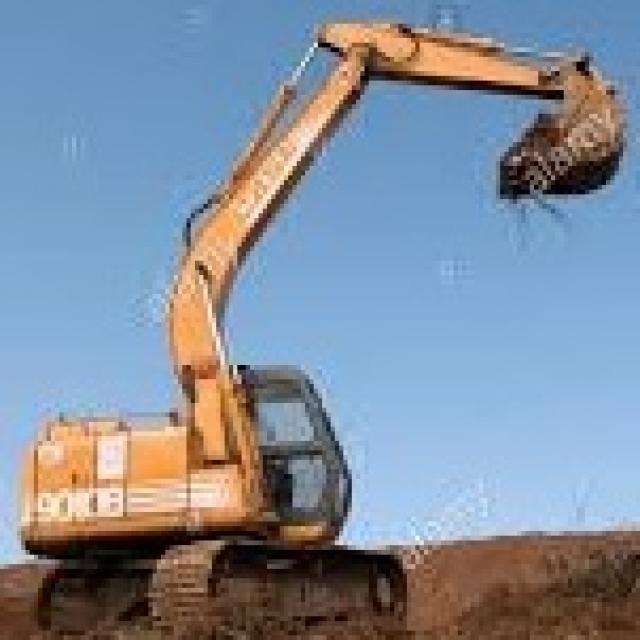excavator: (29, 296, 418, 622)
